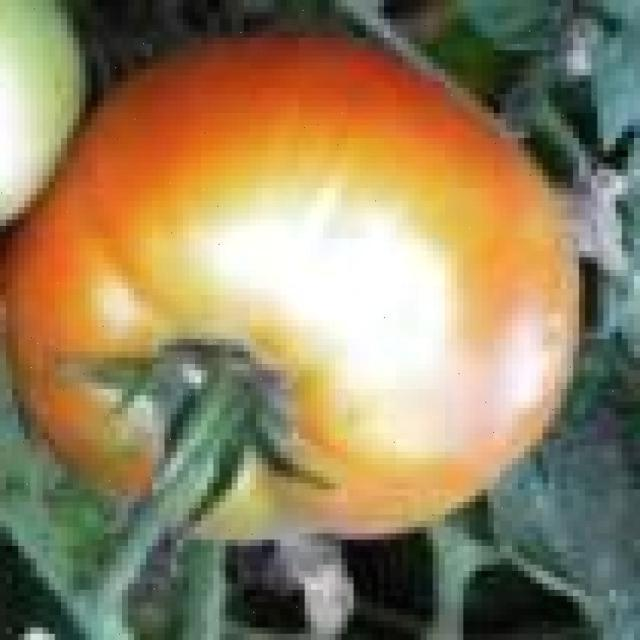Sunscald Fruit: (134, 109, 309, 322)
